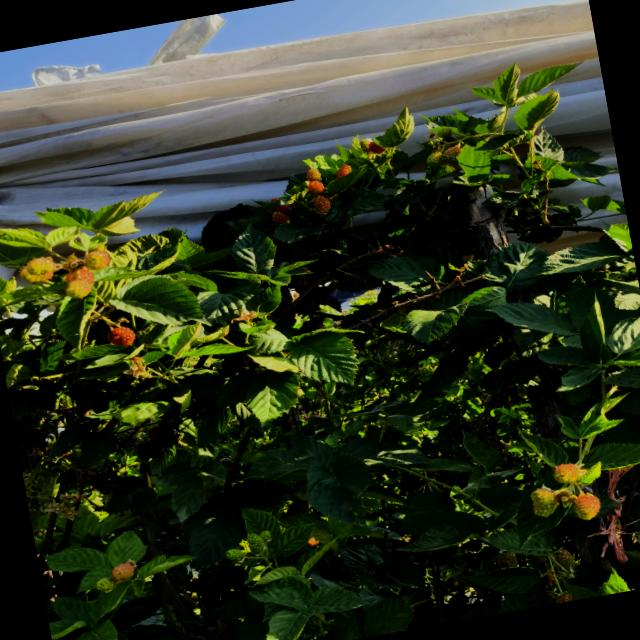maduro: (155, 423, 180, 447), (136, 440, 162, 459)
naranja: (107, 326, 135, 346), (84, 249, 110, 270), (111, 560, 136, 581), (65, 267, 94, 283), (313, 195, 330, 214), (307, 180, 324, 194), (272, 211, 289, 225), (368, 140, 386, 153), (335, 164, 351, 178), (148, 426, 162, 440), (306, 168, 321, 180), (273, 205, 289, 213)
verde: (530, 486, 558, 517), (573, 493, 600, 520), (553, 463, 584, 483), (26, 256, 55, 277), (19, 267, 53, 283), (66, 278, 91, 298), (553, 548, 574, 569), (496, 551, 518, 568), (247, 533, 264, 554), (96, 577, 116, 592), (442, 145, 461, 160), (226, 548, 245, 561), (426, 151, 442, 165), (437, 126, 452, 138), (359, 138, 371, 151), (258, 530, 271, 541)
